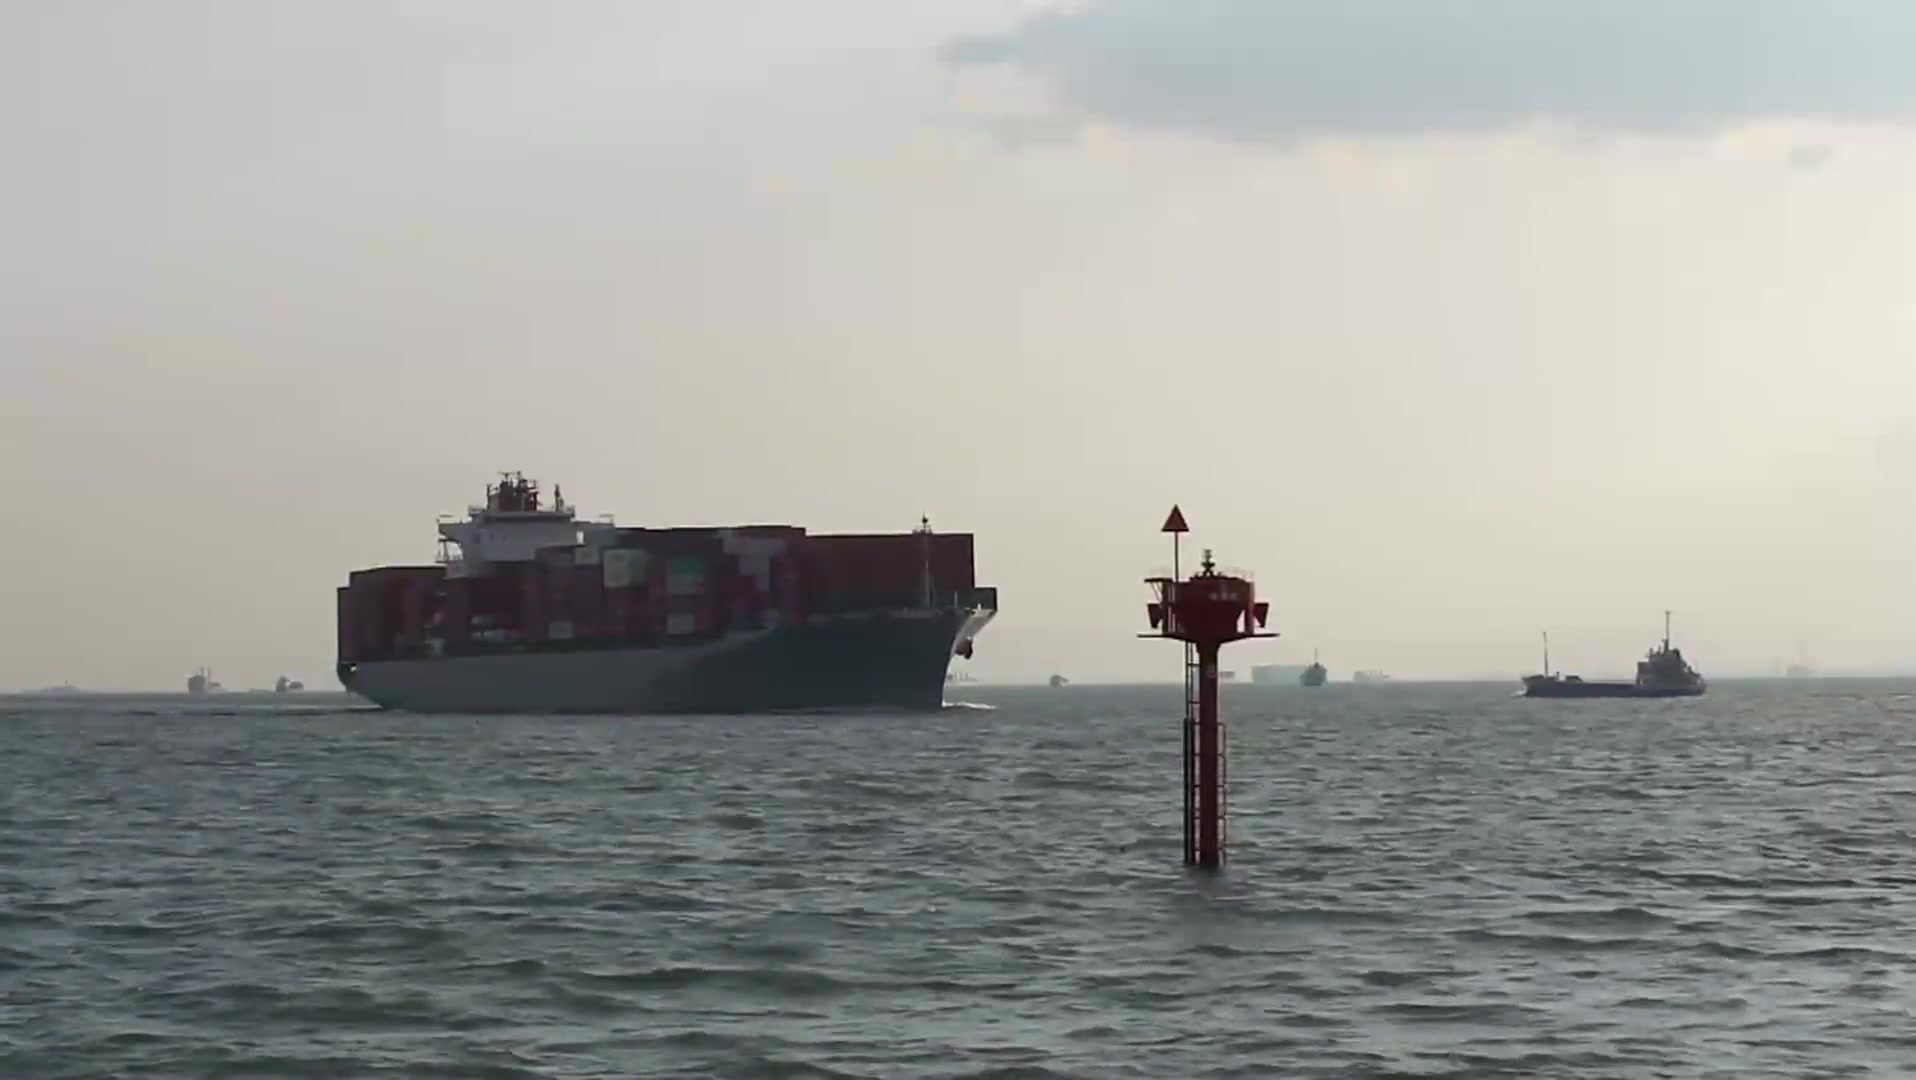boat: (333, 468, 1001, 722), (1508, 602, 1720, 714), (1251, 652, 1337, 693), (263, 676, 322, 706), (182, 666, 228, 704)
